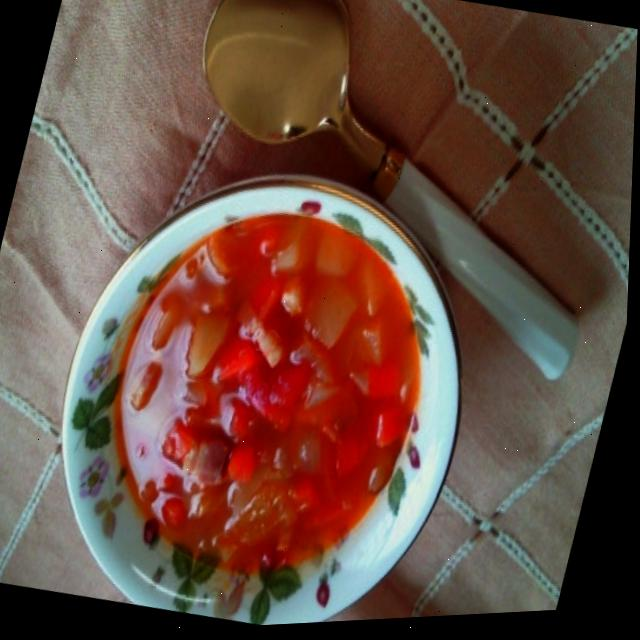汤锅炖物: (29, 159, 492, 638)
